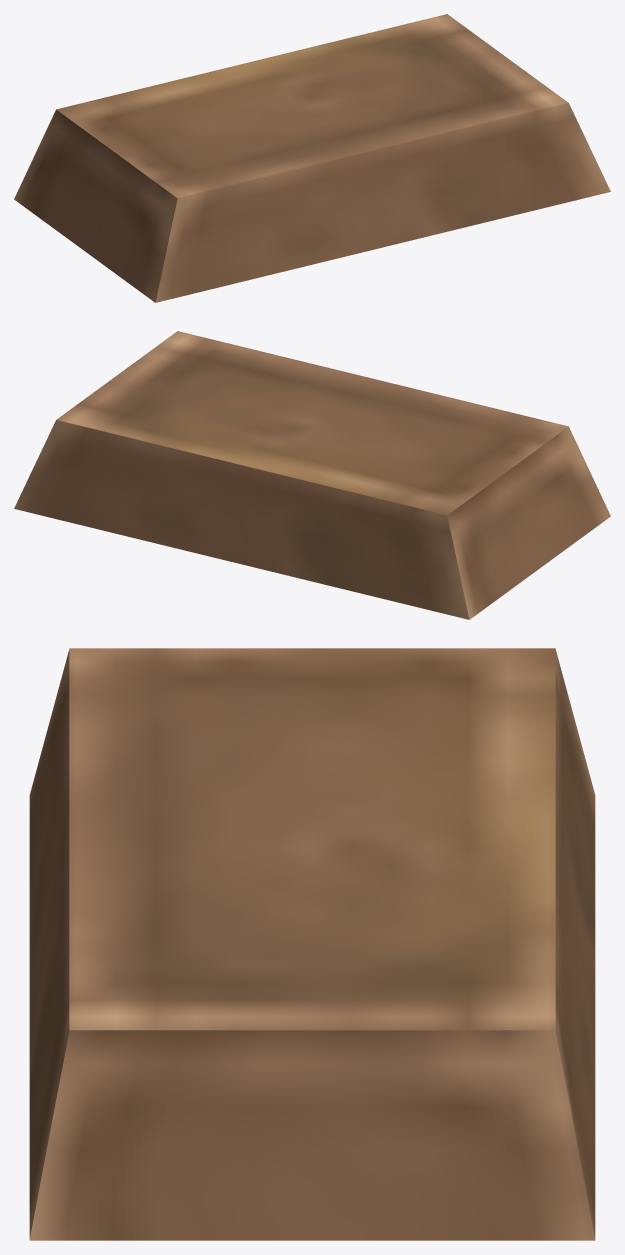
Rendered from mine_prop_8.FBX.
The picture shows the model from 3 angles, top to bottom: view 1: azimuth 30°, elevation 25°; view 2: azimuth 150°, elevation 25°; view 3: azimuth 270°, elevation 25°; orthographic projection. The views are drawn at different scales.
Visible parts, largest first — view 1: Object426; view 2: Object426; view 3: Object426.
Part boxes in pixels (x1,y1,x2,y2): Object426: (14, 14, 610, 302); Object426: (14, 331, 610, 619); Object426: (29, 648, 595, 1240).
Size of the model in its own units: 19.14 by 3.59 by 10.3.
